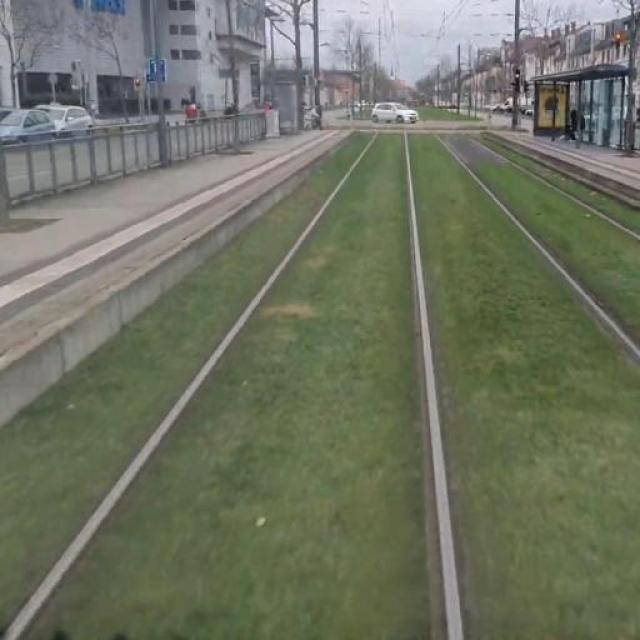vehicle: (371, 100, 428, 129)
